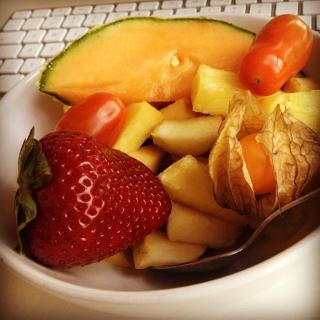Strawberry: (14, 125, 168, 273)
